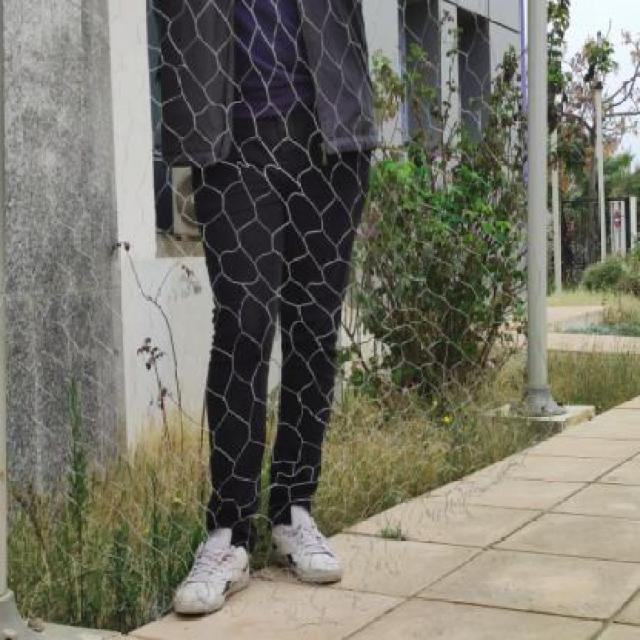fence line: (500, 53, 628, 470)
